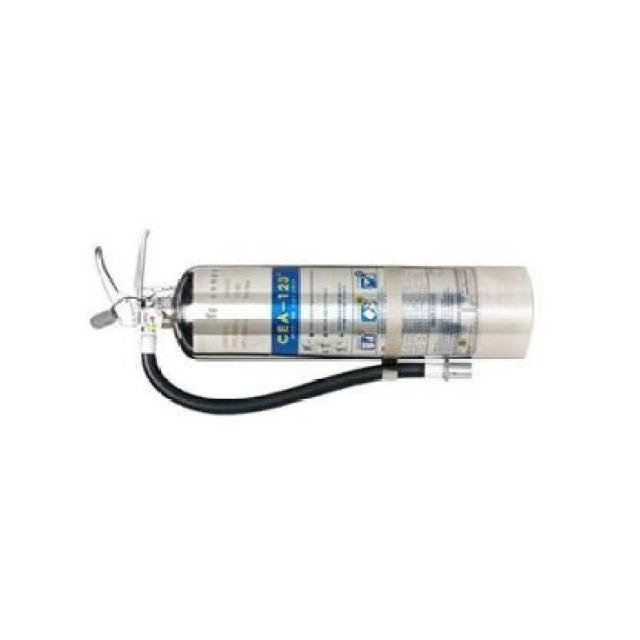fire extinguisher: (94, 229, 534, 415)
